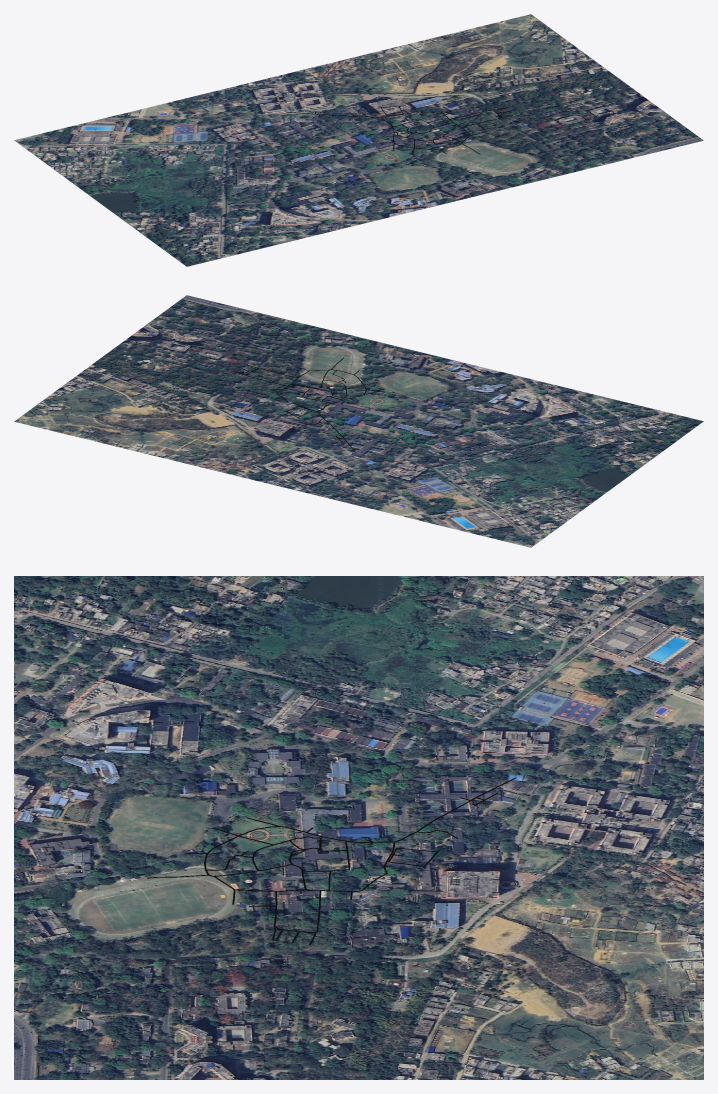
File: roadmap.fbx
3 renders of one model, top to bottom at view 1: azimuth 30°, elevation 25°; view 2: azimuth 150°, elevation 25°; view 3: azimuth 270°, elevation 25°, orthographic. The views are drawn at different scales.
Parts seen in each view (by area): view 1: Plane.001, Ways; view 2: Plane.001, Ways; view 3: Plane.001, Ways.
Part boxes in pixels (<box>): Plane.001: <box>14,14,703,266</box>; Ways: <box>285,105,512,154</box>; Plane.001: <box>14,295,703,547</box>; Ways: <box>234,357,379,450</box>; Plane.001: <box>14,576,703,1079</box>; Ways: <box>147,777,516,945</box>.
Bounding box in the file's own units: 426565 × 6542 × 246942.
